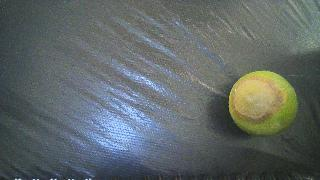DESECHO: (228, 71, 298, 136)
